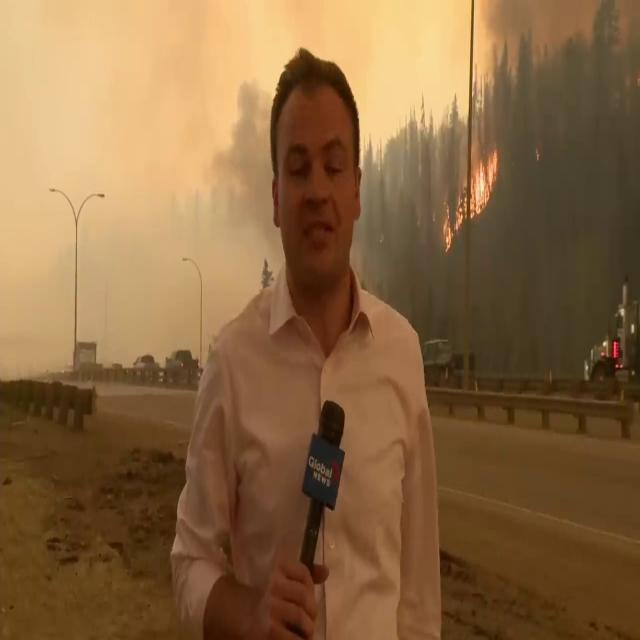Fire: (466, 140, 498, 222), (440, 175, 470, 260)
Smoke: (95, 7, 283, 343), (485, 0, 640, 238)
